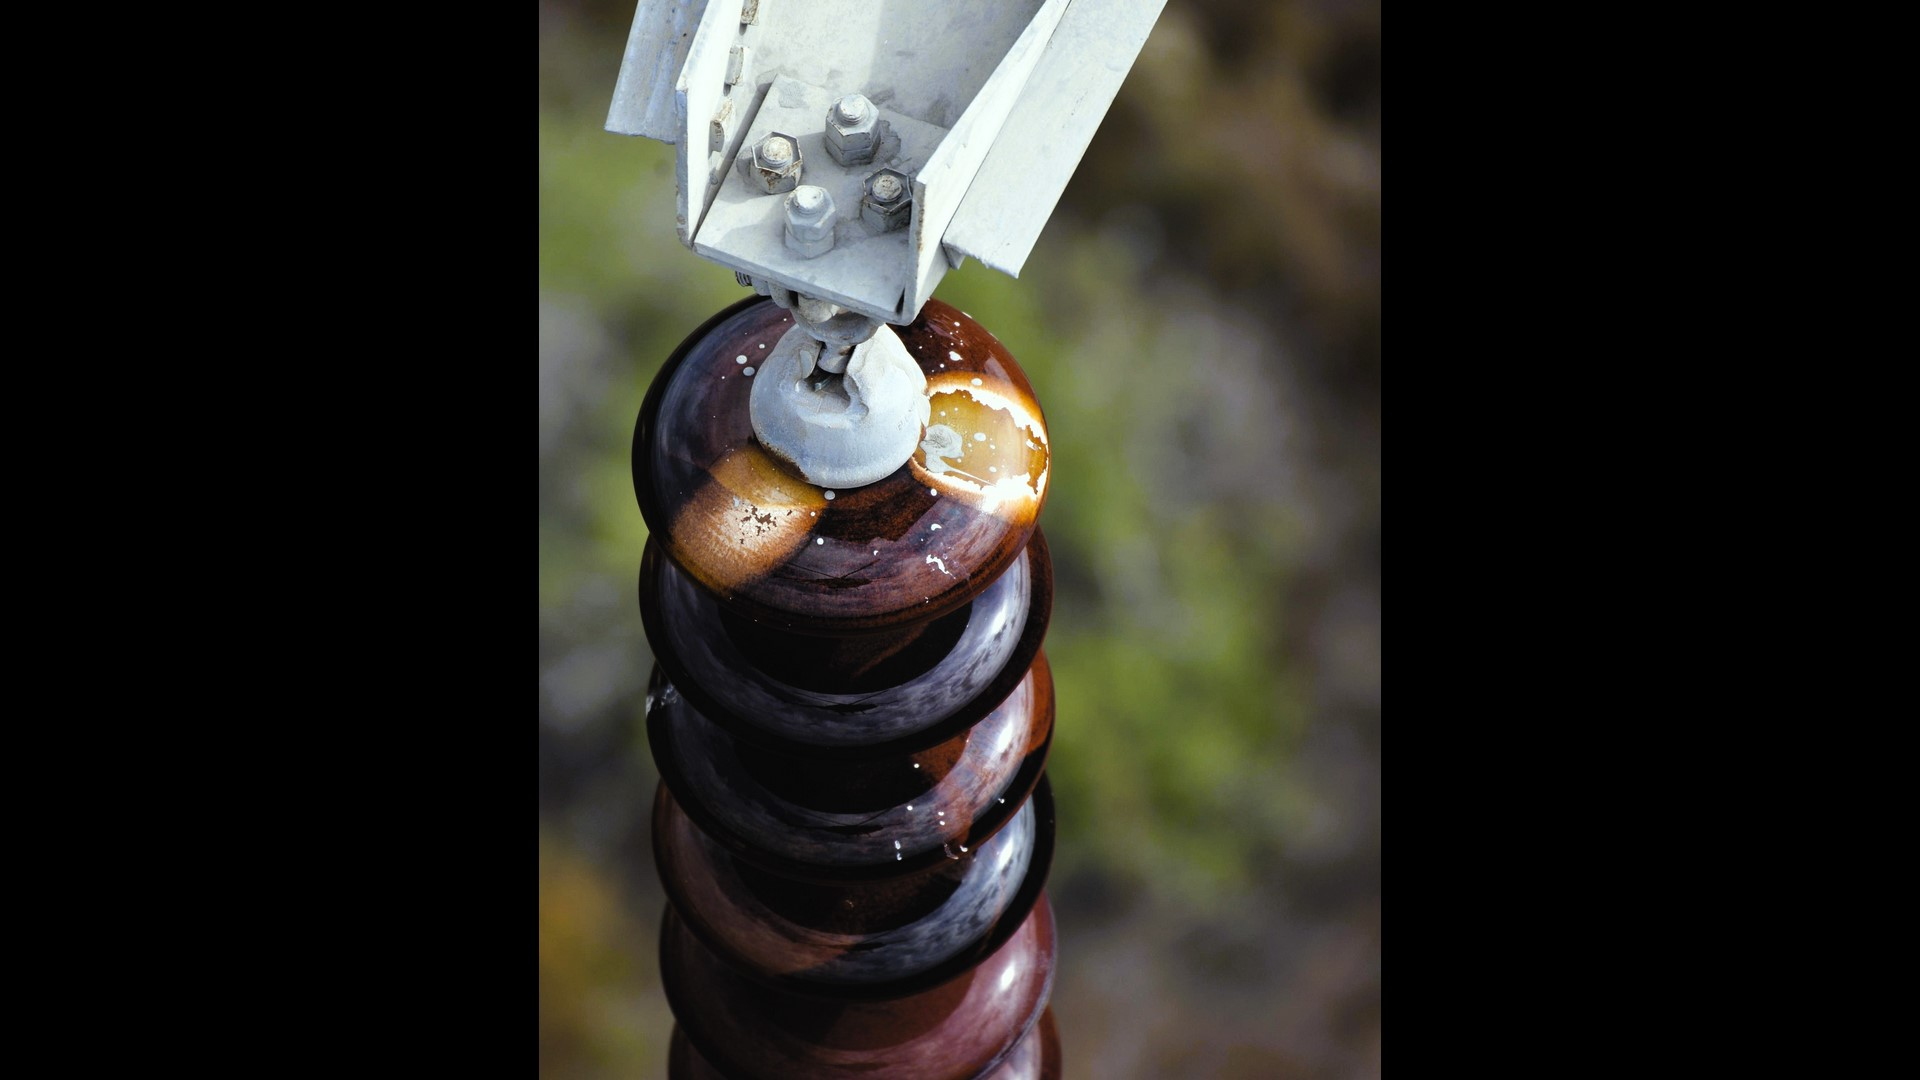Insulator flashover: (626, 286, 1058, 636)
